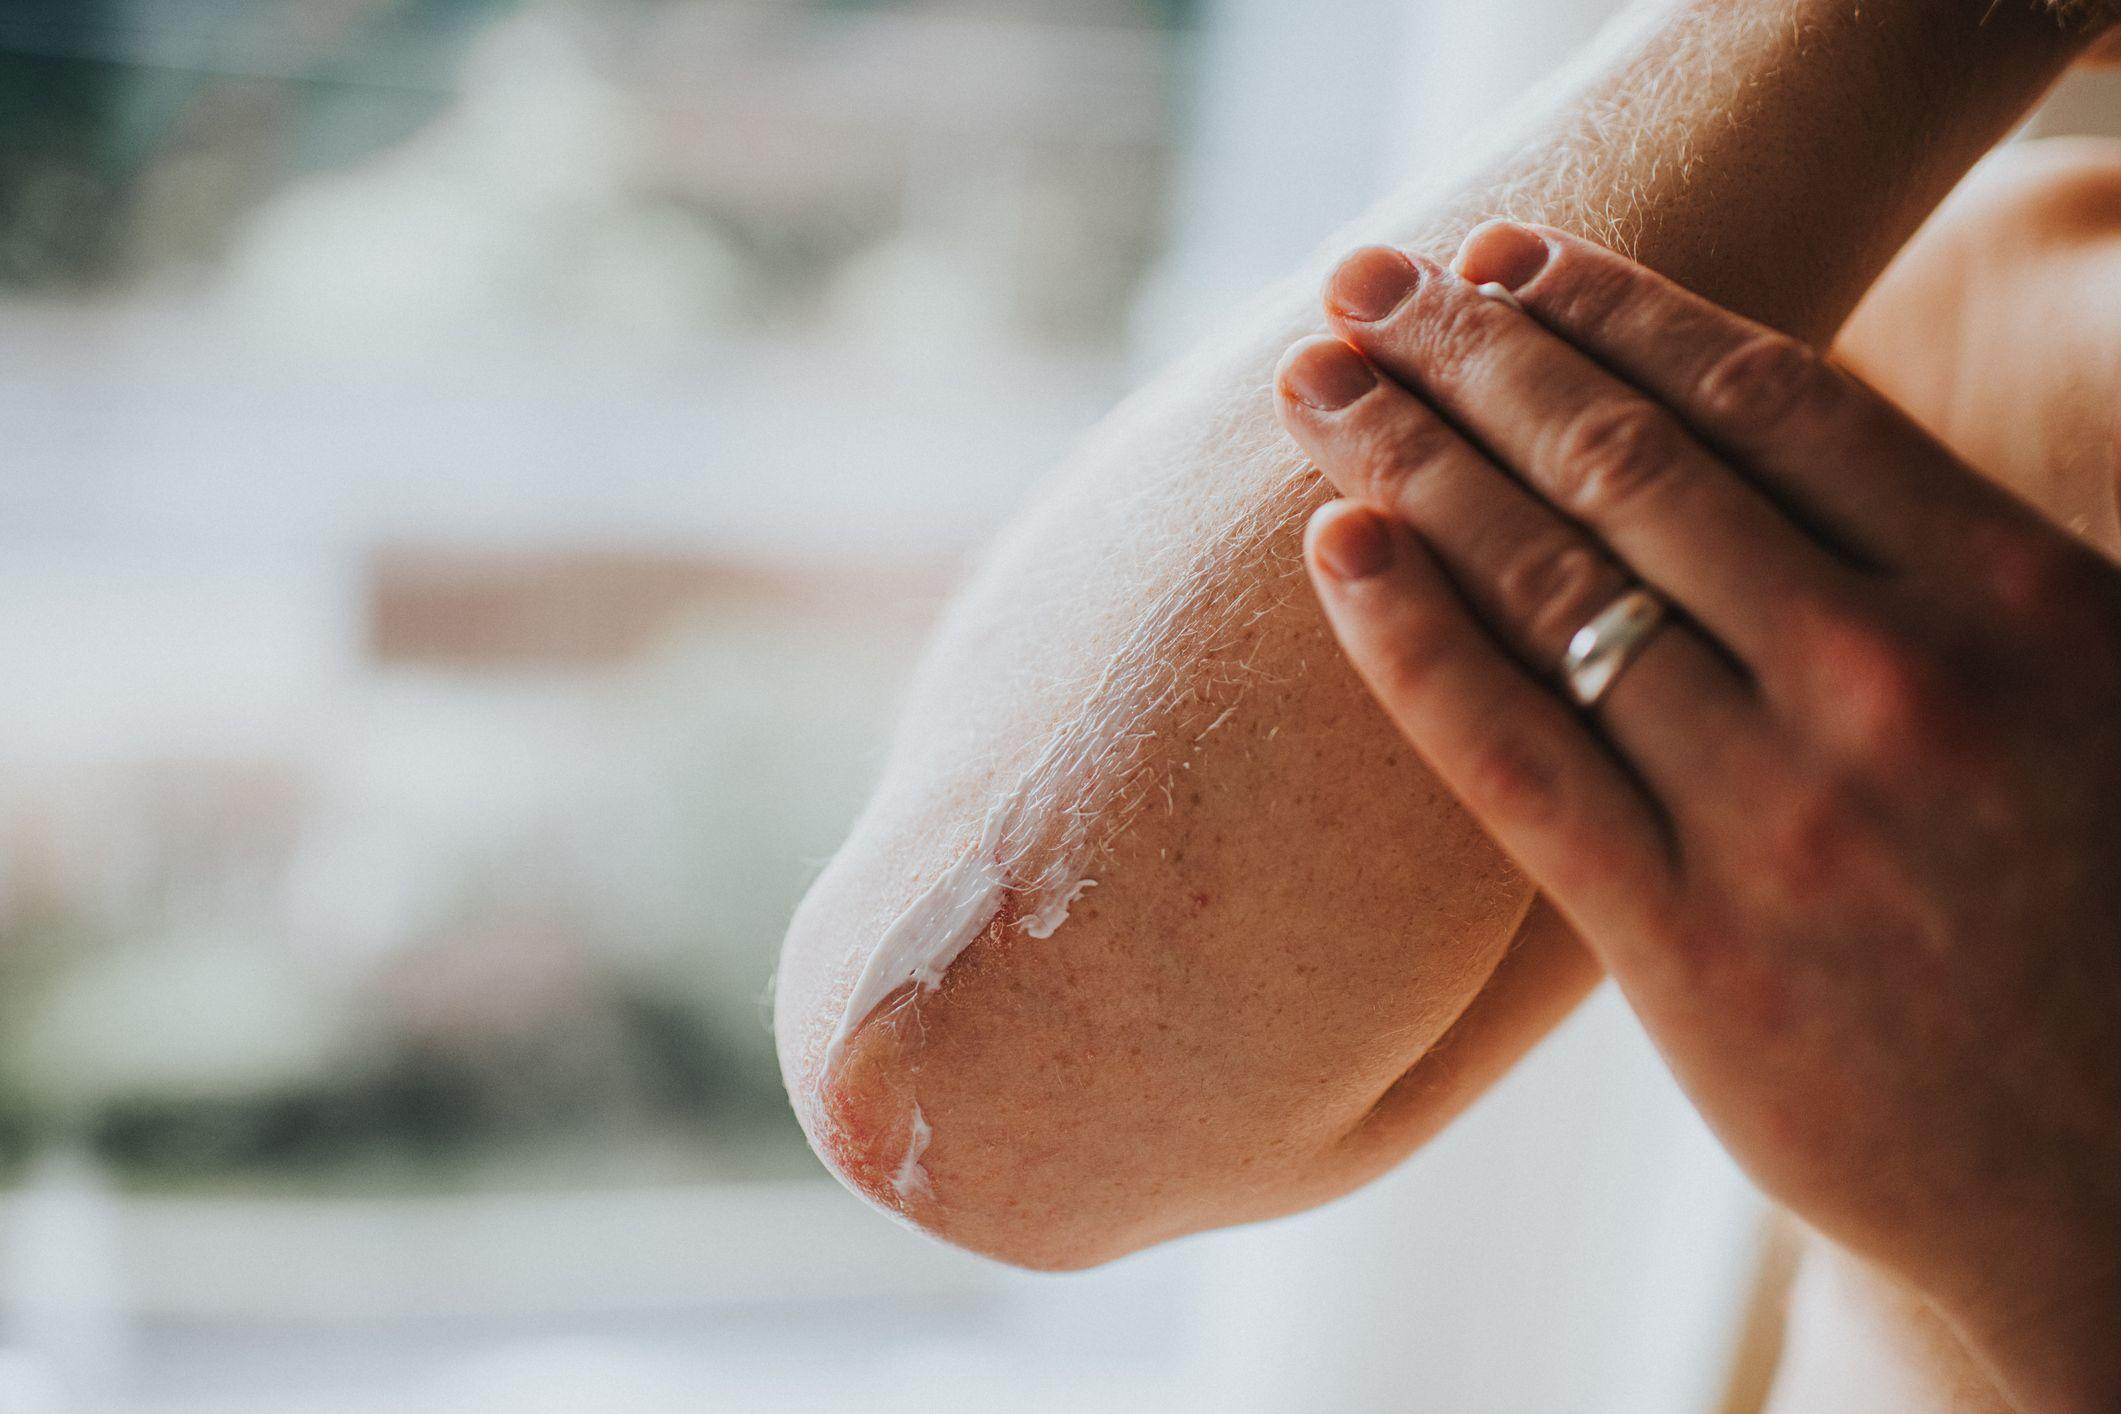Dry-Skin: (772, 311, 1360, 1300), (1457, 13, 1734, 248)
